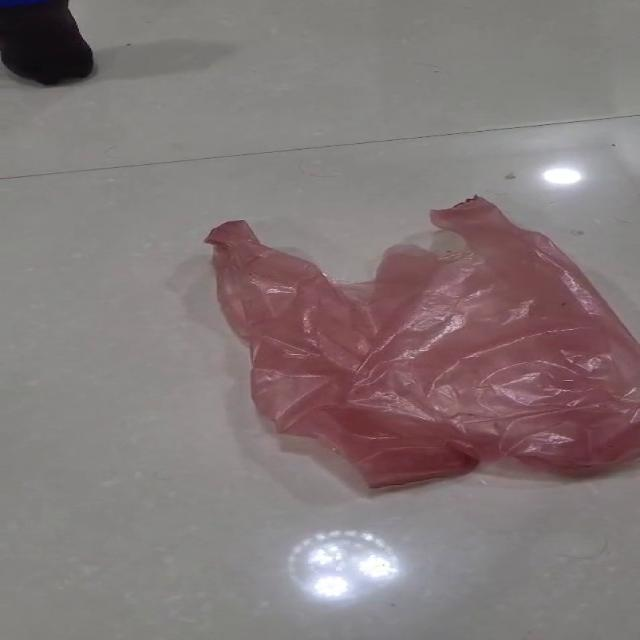plastic: (202, 194, 637, 490)
